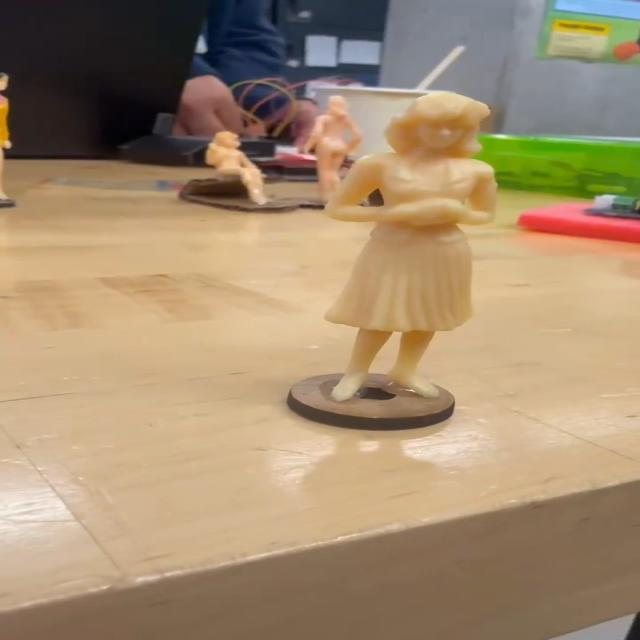Unauthorized: (315, 70, 503, 414)
